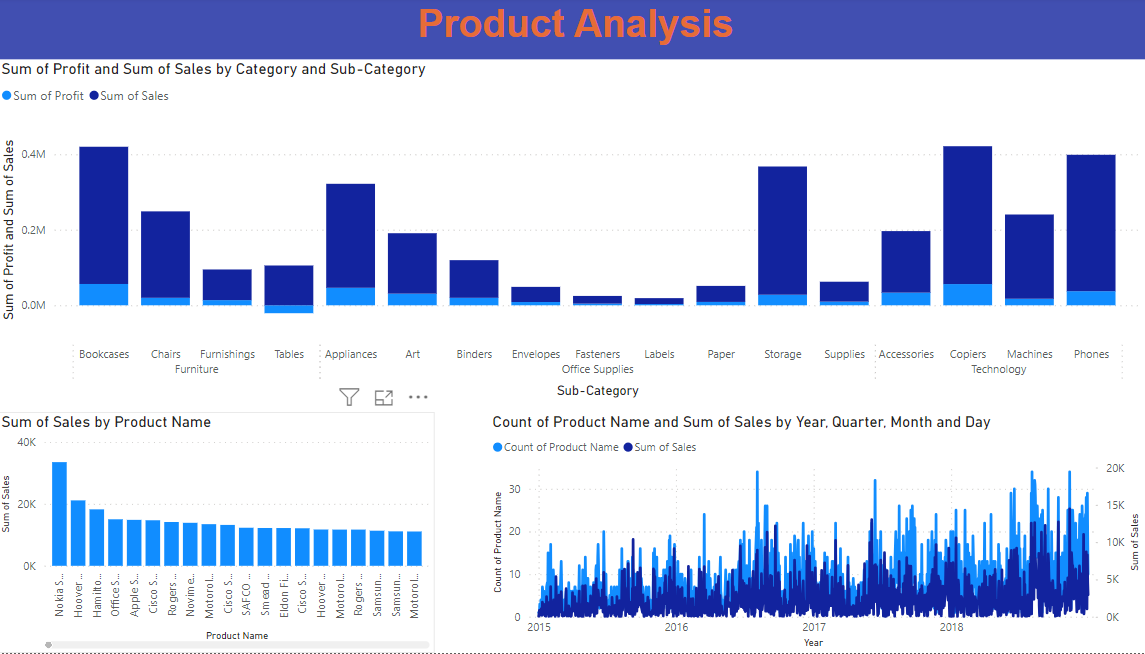

The page's visual inventory and layout, read from the dashboard file:
{"tool":"powerbi","page":{"name":"Page 4","canvas":[1280,720],"ordinal":3},"visuals":[{"type":"textbox","box":[9.6,0,1270.7,68.6],"z":0},{"type":"columnChart","fields":{"Category":["Orders.Category","Orders.Sub-Category"],"Y":["Sum(Orders.Profit)","Sum(Orders.Sales)"]},"box":[9.6,68.6,1261.1,376],"z":1},{"type":"columnChart","fields":{"Category":["Orders.Product Name"],"Y":["Sum(Orders.Sales)"]},"box":[9.6,455.6,480.3,264.8],"z":2},{"type":"lineChart","fields":{"Y":["CountNonNull(Orders.Product Name)"],"Category":["Orders.Order Date.Variation.Date Hierarchy.Year","Orders.Order Date.Variation.Date Hierarchy.Quarter","Orders.Order Date.Variation.Date Hierarchy.Month","Orders.Order Date.Variation.Date Hierarchy.Day"],"Y2":["Sum(Orders.Sales)"]},"box":[548.9,455.6,721.8,264.8],"z":3}]}

Visuals, with their boxes in screenshot pixels (x1, y1, x2, y2), scaled from the page's 1280x720 canvas onto the 1145x654 screenshot:
textbox: box(9, 0, 1144, 62)
columnChart - Orders.Category x Orders.Sub-Category: box(9, 62, 1137, 404)
columnChart - Orders.Product Name x Sum(Orders.Sales): box(9, 414, 438, 653)
lineChart - CountNonNull(Orders.Product Name) x Orders.Order Date.Variation.Date Hierarchy.Year: box(491, 414, 1137, 653)
